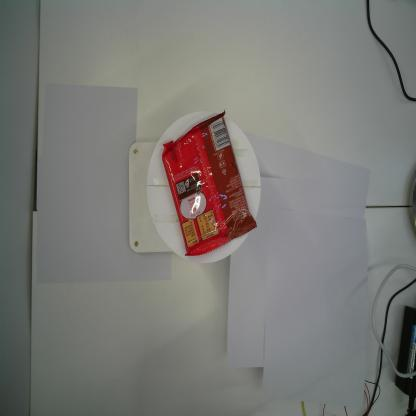Dessert: (162, 108, 258, 257)
